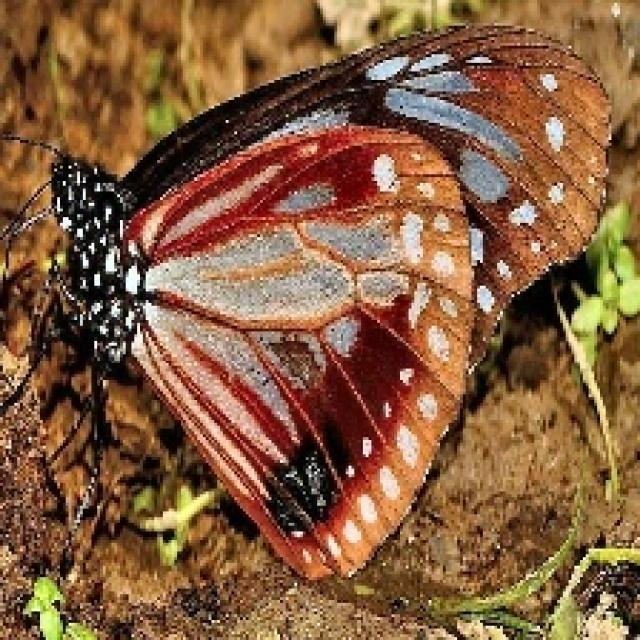butterfly: (0, 20, 614, 583)
